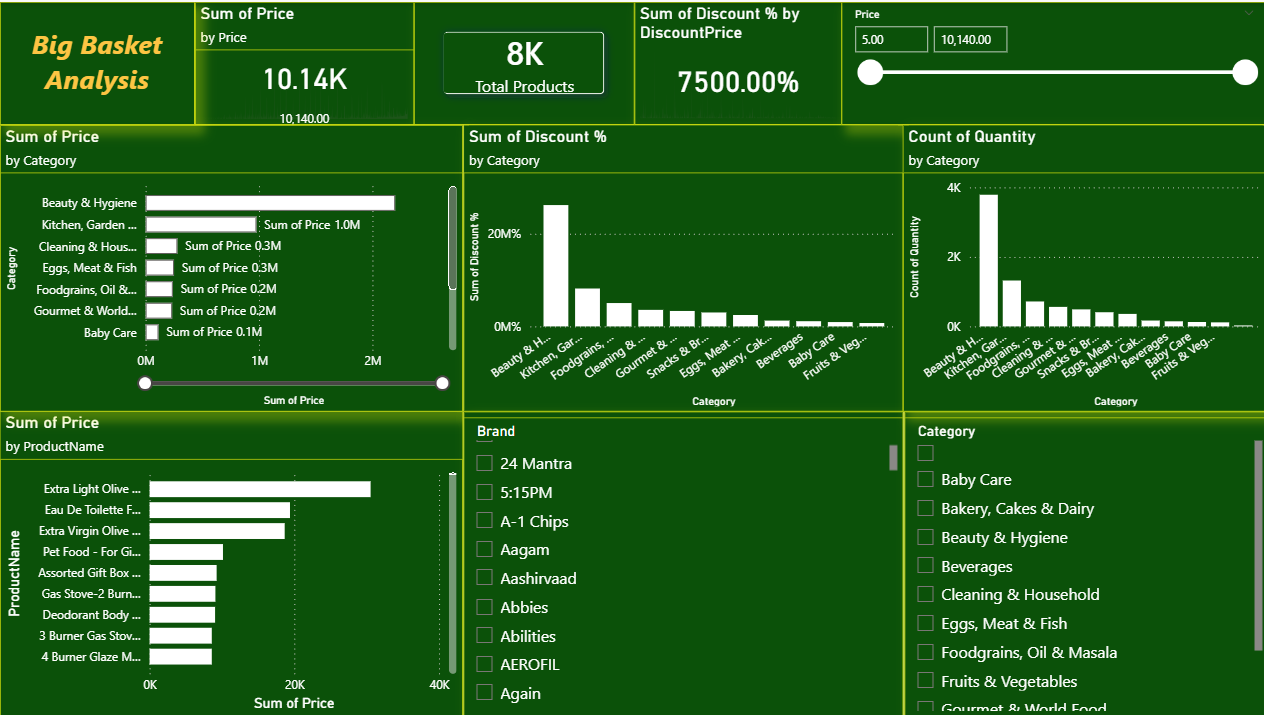

The dashboard page shown, as its layout file describes it:
{"tool":"powerbi","page":{"name":"Page 1","canvas":[1280,720],"ordinal":0},"visuals":[{"type":"kpi","fields":{"Indicator":["Sum(BigBasket Products csv.Price)"],"TrendLine":["BigBasket Products csv.Price"]},"box":[196.5,0,221.2,123.7],"z":0},{"type":"cardVisual","fields":{"Data":["BigBasket Products csv.Total Products"]},"box":[417.7,0,222.7,123.7],"z":1000},{"type":"kpi","fields":{"Indicator":["Sum(BigBasket Products csv.Discount %)"],"TrendLine":["BigBasket Products csv.DiscountPrice"]},"box":[640.4,0,209.6,123.7],"z":2000},{"type":"barChart","fields":{"Category":["BigBasket Products csv.ProductName"],"Y":["Sum(BigBasket Products csv.Price)"]},"box":[0,413.4,467.2,307.1],"z":3000},{"type":"clusteredBarChart","fields":{"Category":["BigBasket Products csv.Category"],"Y":["Sum(BigBasket Products csv.Price)"]},"box":[0,123.7,467.2,289.7],"z":4000},{"type":"columnChart","fields":{"Category":["BigBasket Products csv.Category"],"Y":["Sum(BigBasket Products csv.Discount %)"]},"box":[467.2,123.7,443.9,289.7],"z":5000},{"type":"slicer","fields":{"Values":["BigBasket Products csv.Brand"]},"box":[467.2,413.4,443.9,307.1],"z":6000},{"type":"slicer","fields":{"Values":["BigBasket Products csv.Category"]},"box":[912.6,413.4,366.8,307.1],"z":7000},{"type":"slicer","fields":{"Values":["BigBasket Products csv.Price"]},"box":[850,0,429.4,123.7],"z":8000},{"type":"lineStackedColumnComboChart","fields":{"Category":["BigBasket Products csv.Category"],"Y":["CountNonNull(BigBasket Products csv.Quantity)"]},"box":[911.2,123.7,368.3,289.7],"z":9000},{"type":"textbox","box":[0,0,196.5,123.7],"z":10000}]}

Visuals, with their boxes in screenshot pixels (x1, y1, x2, y2), scaled from the page's 1280x720 canvas onto the 1264x715 screenshot:
kpi - Sum(BigBasket Products csv.Price) x BigBasket Products csv.Price: BBox(194, 0, 412, 123)
cardVisual - BigBasket Products csv.Total Products: BBox(412, 0, 632, 123)
kpi - Sum(BigBasket Products csv.Discount %) x BigBasket Products csv.DiscountPrice: BBox(632, 0, 839, 123)
barChart - BigBasket Products csv.ProductName x Sum(BigBasket Products csv.Price): BBox(0, 411, 461, 714)
clusteredBarChart - BigBasket Products csv.Category x Sum(BigBasket Products csv.Price): BBox(0, 123, 461, 411)
columnChart - BigBasket Products csv.Category x Sum(BigBasket Products csv.Discount %): BBox(461, 123, 900, 411)
slicer - BigBasket Products csv.Brand: BBox(461, 411, 900, 714)
slicer - BigBasket Products csv.Category: BBox(901, 411, 1263, 714)
slicer - BigBasket Products csv.Price: BBox(839, 0, 1263, 123)
lineStackedColumnComboChart - BigBasket Products csv.Category x CountNonNull(BigBasket Products csv.Quantity): BBox(900, 123, 1263, 411)
textbox: BBox(0, 0, 194, 123)
